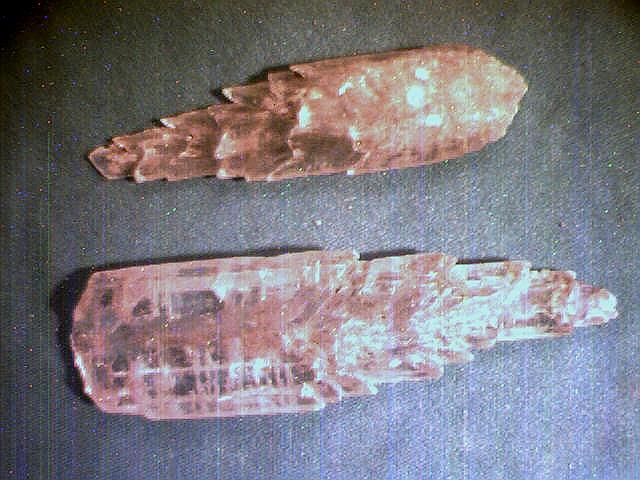gypsum: (71, 251, 618, 420), (90, 45, 528, 182)
